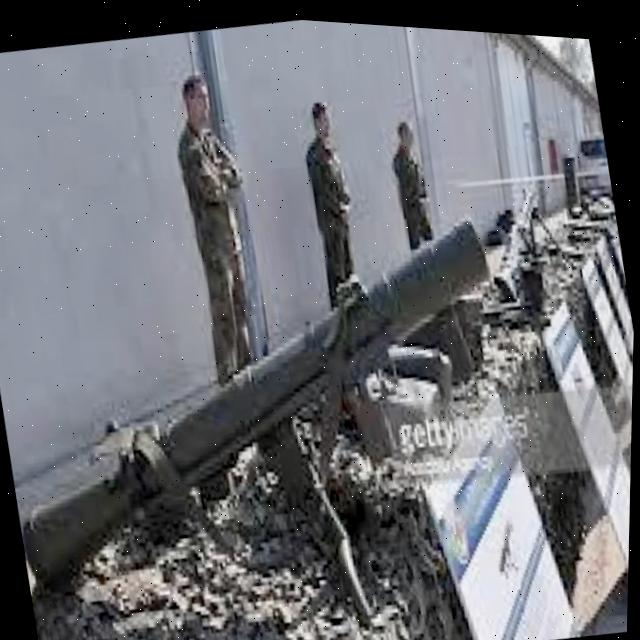rocket: (0, 175, 539, 626)
